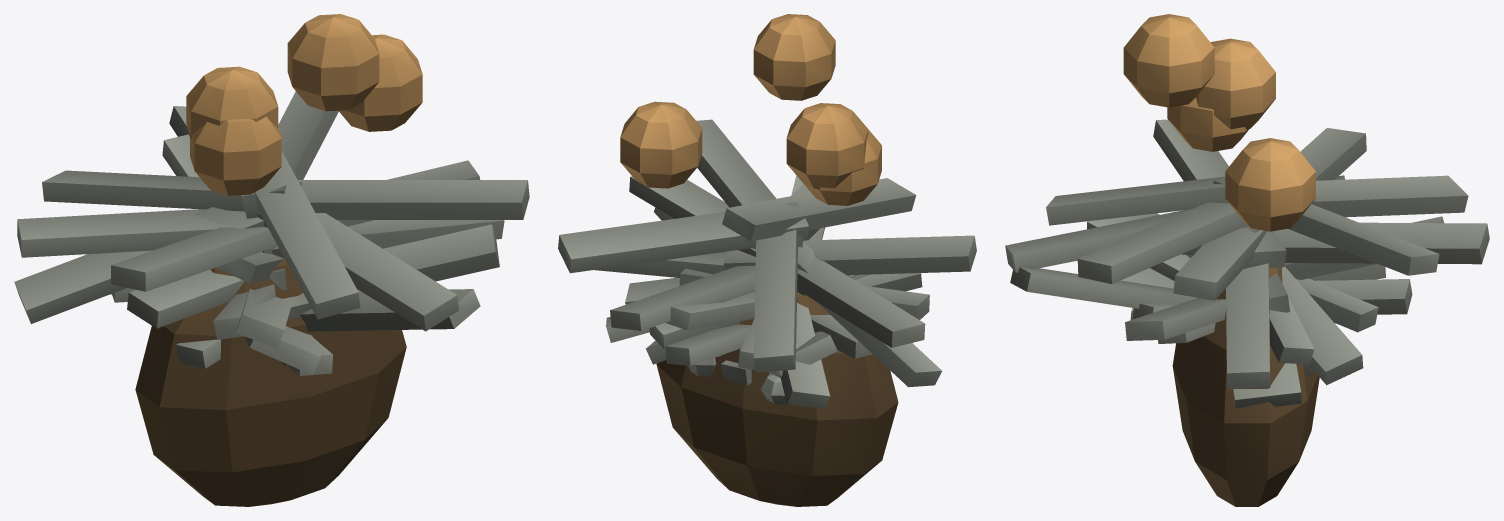
The model's file is crop_tinder_grass.glb.
3 views of the same model, side by side, from view 1: azimuth 30°, elevation 25°; view 2: azimuth 150°, elevation 25°; view 3: azimuth 270°, elevation 25° (orthographic). The views are drawn at different scales.
Parts seen in each view (by area): view 1: seed_mound, tleaf.015, tleaf.012, fireball.001, tleaf.007, tleaf.013, fireball, tleaf.005, tleaf.008, tleaf.010, fireball.002, fireball.003 (+12 smaller); view 2: seed_mound, tleaf.002, tleaf.010, fireball.001, fireball.002, tleaf.005, fireball.003, tleaf.012, tleaf.007, tleaf.003, tleaf.015, tleaf.008 (+15 smaller); view 3: seed_mound, fireball.001, fireball.002, tleaf.015, tleaf.005, tleaf, tleaf.012, tleaf.003, fireball.003, tleaf.002, tleaf.014, tleaf.013 (+15 smaller).
Boxes of the visible parts, x1,y1,x2,y2 form: seed_mound: [135, 254, 406, 506]; tleaf.015: [246, 180, 529, 219]; tleaf.012: [254, 151, 360, 319]; fireball.001: [287, 14, 379, 111]; tleaf.007: [17, 209, 229, 257]; tleaf.013: [257, 212, 458, 331]; fireball: [190, 116, 281, 195]; tleaf.005: [42, 170, 302, 211]; tleaf.008: [14, 207, 264, 323]; tleaf.010: [111, 227, 277, 291]; fireball.002: [338, 34, 422, 131]; fireball.003: [186, 66, 278, 139]; seed_mound: [656, 291, 898, 506]; tleaf.002: [558, 202, 809, 273]; tleaf.010: [723, 235, 976, 275]; fireball.001: [753, 14, 835, 100]; fireball.002: [620, 101, 702, 188]; tleaf.005: [753, 230, 798, 372]; fireball.003: [786, 103, 868, 188]; tleaf.012: [722, 178, 916, 241]; tleaf.007: [797, 257, 925, 347]; tleaf.003: [610, 265, 755, 330]; tleaf.015: [696, 119, 803, 247]; tleaf.008: [797, 242, 941, 387]; seed_mound: [1172, 267, 1319, 506]; fireball.001: [1123, 14, 1214, 107]; fireball.002: [1225, 138, 1315, 231]; tleaf.015: [1077, 202, 1247, 283]; tleaf.005: [1311, 175, 1468, 217]; tleaf: [1226, 263, 1270, 389]; tleaf.012: [1046, 176, 1228, 225]; tleaf.003: [1274, 222, 1489, 264]; fireball.003: [1196, 38, 1275, 129]; tleaf.002: [1213, 179, 1439, 275]; tleaf.014: [1010, 267, 1197, 308]; tleaf.013: [1005, 209, 1248, 272].
Size of the model in its own units: 0.5051 by 0.5641 by 0.5078.
